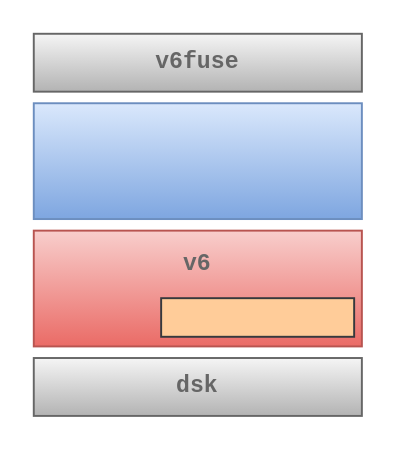
Some shapes in this 396 by 450 pixel diagram are drawn without their labels. Each missing label, with the centre of its shape:
"v6adapt" belongs at pixel 256 316.
"v6fs" belongs at pixel 197 160.
